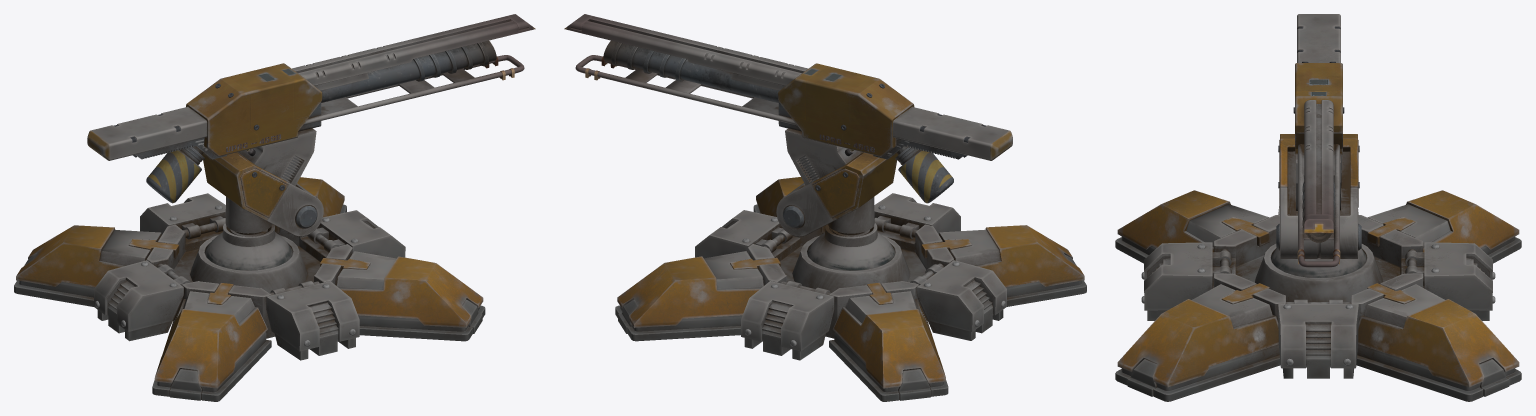
The model's file is lazer_turret.glb.
The picture shows the model from 3 angles, left to right: view 1: azimuth 30°, elevation 25°; view 2: azimuth 150°, elevation 25°; view 3: azimuth 270°, elevation 25°; orthographic projection. The views are drawn at different scales.
Visible parts, largest first — view 1: Cover1_Low, Cover2_Low, Main_Low, Leg_Low, Top_Low, Base_Low, Quad_Low, Sphere_Low, Barrel_Low, Vent_Low, Circle_Low, Pipe_Low (+9 smaller); view 2: Cover1_Low, Cover2_Low, Main_Low, Leg_Low, Top_Low, Base_Low, Quad_Low, Sphere_Low, Barrel_Low, Vent_Low, Circle_Low, Pipe_Low (+9 smaller); view 3: Cover1_Low, Cover2_Low, Leg_Low, Quad_Low, Base_Low, Main_Low, Top_Low, Circle_Low, Stand_Low, Vent_Low, Locker_Low, Pipe_Low (+8 smaller).
Part boxes in pixels (box(x1,y1,x2,y2)): Cover1_Low: box(16, 177, 483, 388); Cover2_Low: box(94, 193, 405, 351); Main_Low: box(87, 63, 322, 160); Leg_Low: box(14, 204, 485, 401); Top_Low: box(292, 16, 518, 85); Base_Low: box(146, 224, 352, 338); Quad_Low: box(100, 230, 396, 323); Sphere_Low: box(204, 196, 293, 270); Barrel_Low: box(320, 40, 496, 102); Vent_Low: box(97, 214, 375, 360); Circle_Low: box(190, 235, 307, 292); Pipe_Low: box(303, 55, 524, 125); Cover1_Low: box(617, 177, 1084, 388); Cover2_Low: box(695, 193, 1006, 351); Main_Low: box(778, 63, 1012, 160); Leg_Low: box(615, 204, 1086, 401); Top_Low: box(581, 16, 808, 85); Base_Low: box(748, 224, 953, 338); Quad_Low: box(704, 229, 1000, 322); Sphere_Low: box(807, 197, 895, 270); Barrel_Low: box(603, 40, 779, 102); Vent_Low: box(725, 214, 1003, 360); Circle_Low: box(792, 235, 909, 292); Pipe_Low: box(575, 55, 796, 125); Cover1_Low: box(1117, 190, 1519, 387); Cover2_Low: box(1144, 206, 1492, 368); Leg_Low: box(1115, 236, 1521, 401); Quad_Low: box(1186, 204, 1450, 327); Base_Low: box(1213, 215, 1423, 322); Main_Low: box(1295, 14, 1342, 154); Top_Low: box(1304, 100, 1333, 217); Circle_Low: box(1255, 244, 1382, 301); Stand_Low: box(1280, 187, 1357, 258); Vent_Low: box(1147, 256, 1489, 378); Locker_Low: box(1221, 217, 1415, 304); Pipe_Low: box(1298, 144, 1339, 267).
Bounding box in the file's own units: 1268 × 602 × 918.
2 materials, 2 textured.
